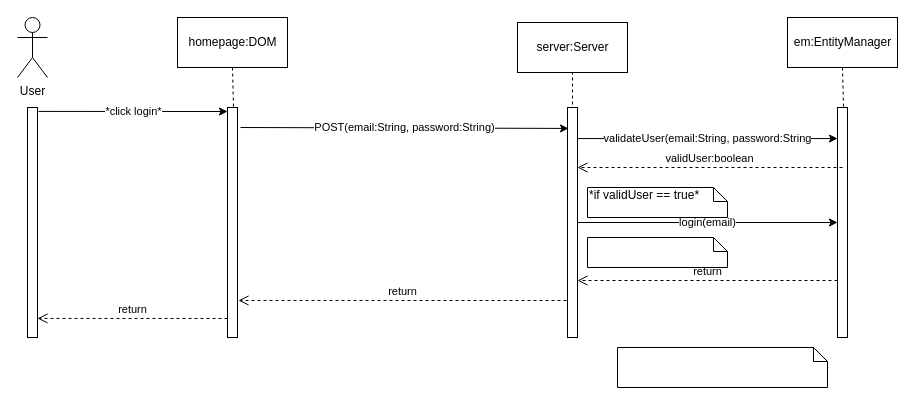
This 915x405 diagram has some shape labels left out. The shapes that lost their labels are listed below. From the top down, each one's box as (x1, y1, x2, y2) in pixels, then its label:
(586, 236, 728, 268): *sets login boolean to true*
(616, 346, 828, 388): *for logout, call logout(email) on em which sets login boolean to false*
